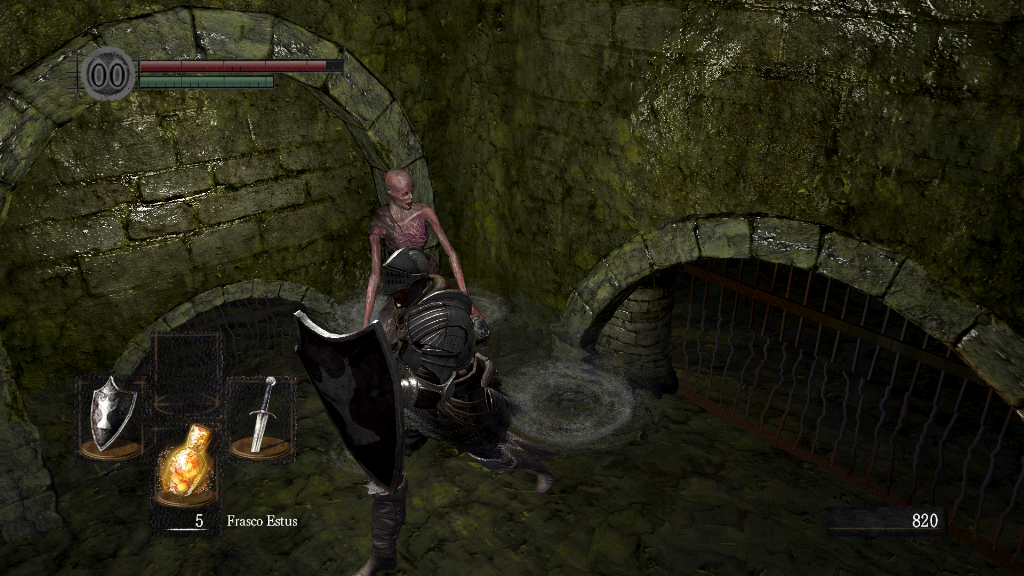health: (138, 58, 343, 71)
hollow: (362, 169, 484, 354)
humanity: (80, 45, 136, 102)
player: (292, 247, 557, 576)
souls: (825, 506, 945, 536)
stamina: (138, 74, 274, 88)
